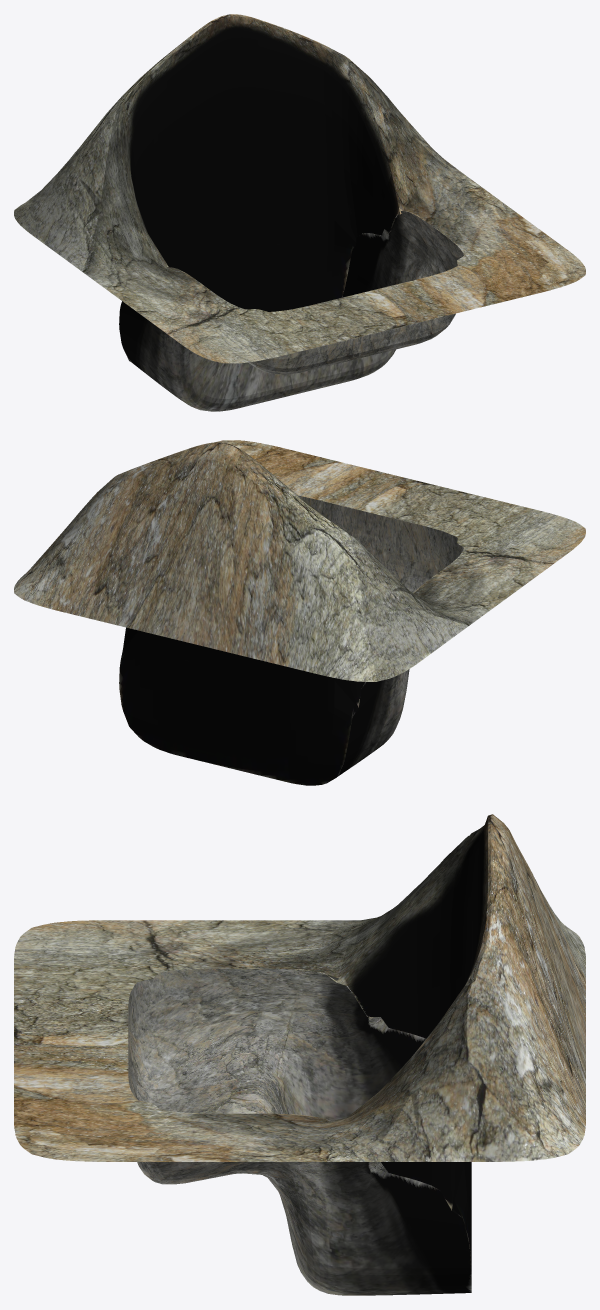
The model's file is ApenasEscada.fbx.
3 renders of one model, top to bottom at view 1: azimuth 30°, elevation 25°; view 2: azimuth 150°, elevation 25°; view 3: azimuth 270°, elevation 25°, orthographic. The views are drawn at different scales.
Visible parts, largest first — view 1: Plane, Plane.001; view 2: Plane, Plane.001; view 3: Plane, Plane.001.
Boxes of the visible parts, x1,y1,x2,y2 form: Plane: [14, 14, 585, 363]; Plane.001: [119, 211, 463, 411]; Plane: [14, 440, 585, 785]; Plane.001: [121, 495, 463, 783]; Plane: [14, 814, 585, 1270]; Plane.001: [128, 968, 471, 1295].
Bounding box in the file's own units: 200 × 165 × 200.
